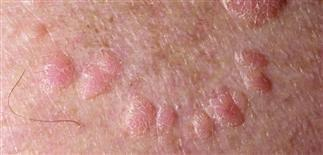syringoma: (187, 47, 272, 145), (32, 36, 126, 104), (121, 89, 182, 144)
